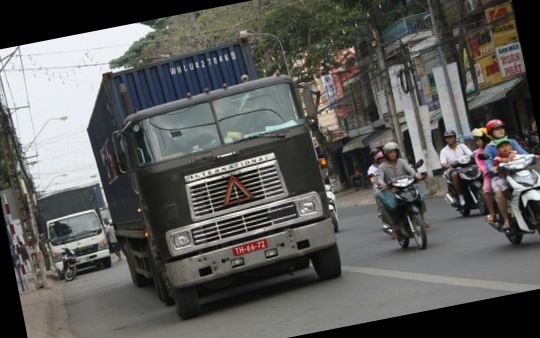plate: (231, 237, 265, 259)
